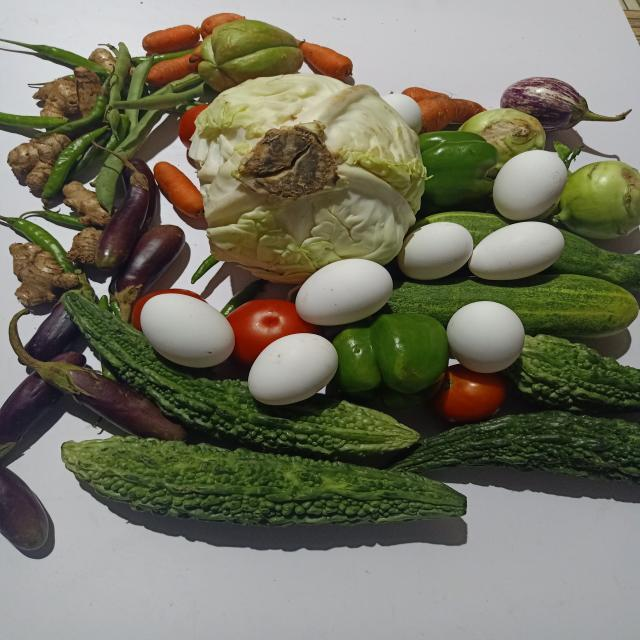Bitter Gourd: (60, 292, 420, 456), (61, 437, 467, 526), (392, 411, 640, 485), (506, 335, 640, 411)
Brinjal: (8, 309, 185, 441), (114, 225, 184, 299)
Cabbage: (188, 73, 426, 283)
Capsicum: (418, 130, 499, 215)
Chayote: (197, 19, 303, 90)
Cucumber: (385, 275, 639, 338)
Egg: (139, 294, 234, 368), (295, 259, 393, 326), (247, 333, 338, 405), (469, 221, 565, 280), (447, 301, 525, 373), (493, 149, 568, 220), (398, 222, 474, 280)
Eggplant: (501, 76, 632, 131)
Ginger: (8, 243, 78, 306)
Green Chilly: (40, 126, 106, 204), (33, 75, 108, 138), (0, 38, 109, 75)
Turnip: (558, 160, 640, 238)
